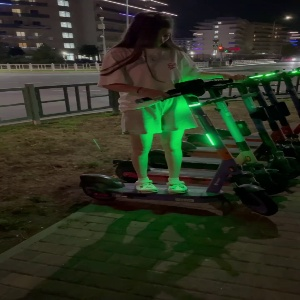human on a scooter: (77, 11, 279, 217)
